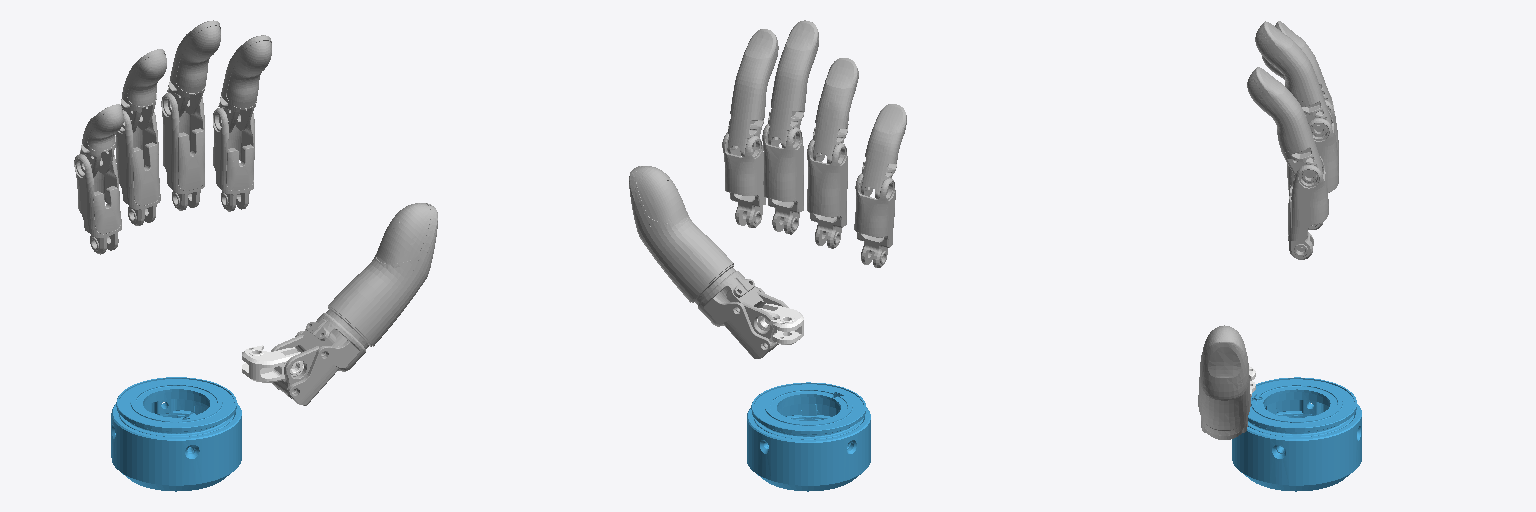
URDF robot description (BrainCoRevo1R_RightHand):
<?xml version="1.0" encoding="utf-8"?>

<!-- This URDF was automatically created by SolidWorks to URDF Exporter! Originally created by Stephen Brawner (brawner@gmail.com) 
     Commit Version: 1.6.0-4-g7f85cfe  Build Version: 1.6.7995.38578
     For more information, please see http://wiki.ros.org/sw_urdf_exporter -->
<robot name="BrainCoRevo1R_RightHand"> 
  <link name="base_link"/>  
  <link name="connector_link"> 
    <visual> 
      <origin xyz="0 0 0" rpy="0 0 0"/>  
      <geometry> 
        <mesh filename="visual/stl/connector_link.stl"/> 
      </geometry>  
    </visual>  
    <collision> 
      <origin xyz="0 0 0" rpy="0 0 0"/>  
      <geometry> 
        <mesh filename="collision/rough/connector_link.obj"/> 
      </geometry> 
    </collision> 
  </link>  
  <joint name="CONNECTOR" type="fixed"> 
    <origin xyz="0 0 0" rpy="1.5707963267948966 0 0"/> 
    <parent link="base_link"/>  
    <child link="connector_link"/>  
  </joint> 
  <link name="hand_base_link"> 
    <inertial> 
      <origin xyz="-0.00099373 0.040537 -0.0022835" rpy="0 0 0"/>  
      <mass value="0.427"/>  
      <inertia ixx="3.4364E-05" ixy="-1.2404E-06" ixz="5.654E-07" iyy="3.9467E-05" iyz="3.8955E-06" izz="6.3984E-05"/> 
    </inertial>  
    <visual> 
      <origin xyz="0 0 0" rpy="0 0 0"/>  
      <geometry> 
        <mesh filename="visual/stl/hand_base_link.stl"/> 
      </geometry>  
      <material name=""> 
        <color rgba="0.75 0.75294 0.75294 1"/> 
      </material> 
    </visual>  
    <collision> 
      <origin xyz="0 0 0" rpy="0 0 0"/>  
      <geometry> 
        <mesh filename="collision/rough/hand_base_link.obj"/> 
      </geometry> 
    </collision> 
  </link>  
  <joint name="HAND_BASE" type="fixed"> 
    <origin xyz="0 0 0.002" rpy="0 0 0"/>  
    <parent link="connector_link"/>  
    <child link="hand_base_link"/> 
  </joint>  
  <link name="base_offset"> </link>  
  <joint name="BASE_OFFSET" type="fixed"> 
    <origin xyz="0 0.0298242 0" rpy="0 0 0"/>  
    <parent link="hand_base_link"/>  
    <child link="base_offset"/>
  </joint>

  <link name="t_cmc_yaw_link"> 
    <inertial> 
      <origin xyz="0.0062041 -7.9383E-08 0.0015306" rpy="0 0 0"/>  
      <mass value="0.005"/>  
      <inertia ixx="4.0639E-08" ixy="5.8675E-13" ixz="2.4299E-09" iyy="9.2485E-08" iyz="7.1049E-13" izz="8.5586E-08"/> 
    </inertial>  
    <visual> 
      <origin xyz="0 0 0" rpy="0 0 0"/>  
      <geometry> 
        <mesh filename="visual/stl/t_cmc_yaw_link.stl"/> 
      </geometry>  
      <material name=""> 
        <color rgba="1 1 1 1"/> 
      </material> 
    </visual>  
    <collision> 
      <origin xyz="0 0 0" rpy="0 0 0"/>  
      <geometry> 
        <mesh filename="collision/rough/t_cmc_yaw_link.obj"/> 
      </geometry> 
    </collision> 
  </link>   
  <link name="t_mcp_link"> 
    <inertial> 
      <origin xyz="0.0083564 0.037204 -3.5884E-07" rpy="0 0 0"/>  
      <mass value="0.04"/>  
      <inertia ixx="7.1498E-06" ixy="2.0157E-07" ixz="-6.0726E-11" iyy="9.1501E-07" iyz="5.4502E-10" izz="6.8747E-06"/> 
    </inertial>  
    <visual> 
      <origin xyz="0 0 0" rpy="0 0 0"/>  
      <geometry> 
        <mesh filename="visual/stl/t_mcp_link.stl"/> 
      </geometry>  
      <material name=""> 
        <color rgba="0.75294 0.75294 0.75294 1"/> 
      </material> 
    </visual>  
    <collision> 
      <origin xyz="0 0 0" rpy="0 0 0"/>  
      <geometry> 
        <mesh filename="collision/rough/t_mcp_link.obj"/> 
      </geometry> 
    </collision> 
  </link>  
  <link name="if_mcp_pitch_link"> 
    <inertial> 
      <origin xyz="-5.571E-07 0.016609 0.00045746" rpy="0 0 0"/>  
      <mass value="0.008"/>  
      <inertia ixx="3.3526E-07" ixy="2.9401E-11" ixz="-2.4782E-12" iyy="1.0133E-07" iyz="2.0576E-08" izz="3.7092E-07"/> 
    </inertial>  
    <visual> 
      <origin xyz="0 0 0" rpy="0 0 0"/>  
      <geometry> 
        <mesh filename="visual/stl/if_mcp_pitch_link.stl"/> 
      </geometry>  
      <material name=""> 
        <color rgba="0.75294 0.75294 0.75294 1"/> 
      </material> 
    </visual>  
    <collision> 
      <origin xyz="0 0 0" rpy="0 0 0"/>  
      <geometry> 
        <mesh filename="collision/rough/if_mcp_pitch_link.obj"/> 
      </geometry> 
    </collision> 
  </link>  
  <link name="if_dip_link"> 
    <inertial> 
      <origin xyz="5.9401E-06 0.025449 0.003278" rpy="0 0 0"/>  
      <mass value="0.011"/>  
      <inertia ixx="8.4801E-07" ixy="-1.0878E-09" ixz="-1.3683E-10" iyy="1.4147E-07" iyz="-1.0078E-07" izz="8.5502E-07"/> 
    </inertial>  
    <visual> 
      <origin xyz="0 0 0" rpy="0 0 0"/>  
      <geometry> 
        <mesh filename="visual/stl/if_dip_link.stl"/> 
      </geometry>  
      <material name=""> 
        <color rgba="0.75294 0.75294 0.75294 1"/> 
      </material> 
    </visual>  
    <collision> 
      <origin xyz="0 0 0" rpy="0 0 0"/>  
      <geometry> 
        <mesh filename="collision/rough/if_dip_link.obj"/> 
      </geometry> 
    </collision> 
  </link>  
  <link name="mf_mcp_pitch_link"> 
    <inertial> 
      <origin xyz="2.3779E-07 0.020205 0.00053993" rpy="0 0 0"/>  
      <mass value="0.011"/>  
      <inertia ixx="5.5624E-07" ixy="8E-12" ixz="-8.5151E-12" iyy="1.3298E-07" iyz="2.669E-08" izz="6.0146E-07"/> 
    </inertial>  
    <visual> 
      <origin xyz="0 0 0" rpy="0 0 0"/>  
      <geometry> 
        <mesh filename="visual/stl/mf_mcp_pitch_link.stl"/> 
      </geometry>  
      <material name=""> 
        <color rgba="0.75294 0.75294 0.75294 1"/> 
      </material> 
    </visual>  
    <collision> 
      <origin xyz="0 0 0" rpy="0 0 0"/>  
      <geometry> 
        <mesh filename="collision/rough/mf_mcp_pitch_link.obj"/> 
      </geometry> 
    </collision> 
  </link>  
  <link name="mf_dip_link"> 
    <inertial> 
      <origin xyz="5.9404E-06 0.025449 0.003278" rpy="0 0 0"/>  
      <mass value="0.011"/>  
      <inertia ixx="8.4801E-07" ixy="-1.0879E-09" ixz="-1.3705E-10" iyy="1.4147E-07" iyz="-1.0078E-07" izz="8.5501E-07"/> 
    </inertial>  
    <visual> 
      <origin xyz="0 0 0" rpy="0 0 0"/>  
      <geometry> 
        <mesh filename="visual/stl/mf_dip_link.stl"/> 
      </geometry>  
      <material name=""> 
        <color rgba="0.75294 0.75294 0.75294 1"/> 
      </material> 
    </visual>  
    <collision> 
      <origin xyz="0 0 0" rpy="0 0 0"/>  
      <geometry> 
        <mesh filename="collision/rough/mf_dip_link.obj"/> 
      </geometry> 
    </collision> 
  </link>  
  <link name="rf_mcp_pitch_link"> 
    <inertial> 
      <origin xyz="2.4507E-07 0.020236 0.00042373" rpy="0 0 0"/>  
      <mass value="0.011"/>  
      <inertia ixx="5.5623E-07" ixy="7.4604E-12" ixz="-8.5876E-12" iyy="1.3295E-07" iyz="2.7719E-08" izz="6.0149E-07"/> 
    </inertial>  
    <visual> 
      <origin xyz="0 0 0" rpy="0 0 0"/>  
      <geometry> 
        <mesh filename="visual/stl/rf_mcp_pitch_link.stl"/> 
      </geometry>  
      <material name=""> 
        <color rgba="0.75294 0.75294 0.75294 1"/> 
      </material> 
    </visual>  
    <collision> 
      <origin xyz="0 0 0" rpy="0 0 0"/>  
      <geometry> 
        <mesh filename="collision/rough/rf_mcp_pitch_link.obj"/> 
      </geometry> 
    </collision> 
  </link>  
  <link name="rf_dip_link"> 
    <inertial> 
      <origin xyz="5.5799E-07 0.020388 0.0029077" rpy="0 0 0"/>  
      <mass value="0.008"/>  
      <inertia ixx="3.6793E-07" ixy="-6.504E-13" ixz="-1.1541E-11" iyy="8.4208E-08" iyz="-4.5737E-08" izz="3.8369E-07"/> 
    </inertial>  
    <visual> 
      <origin xyz="0 0 0" rpy="0 0 0"/>  
      <geometry> 
        <mesh filename="visual/stl/rf_dip_link.stl"/> 
      </geometry>  
      <material name=""> 
        <color rgba="0.75294 0.75294 0.75294 1"/> 
      </material> 
    </visual>  
    <collision> 
      <origin xyz="0 0 0" rpy="0 0 0"/>  
      <geometry> 
        <mesh filename="collision/rough/rf_dip_link.obj"/> 
      </geometry> 
    </collision> 
  </link> 
  <link name="lf_mcp_pitch_link"> 
    <inertial> 
      <origin xyz="-5.4618E-07 0.016662 0.00040738" rpy="0 0 0"/>  
      <mass value="0.008"/>  
      <inertia ixx="3.3526E-07" ixy="2.8461E-11" ixz="-2.3358E-12" iyy="1.0129E-07" iyz="2.1346E-08" izz="3.7096E-07"/> 
    </inertial>  
    <visual> 
      <origin xyz="0 0 0" rpy="0 0 0"/>  
      <geometry> 
        <mesh filename="visual/stl/lf_mcp_pitch_link.stl"/> 
      </geometry>  
      <material name=""> 
        <color rgba="0.75294 0.75294 0.75294 1"/> 
      </material> 
    </visual>  
    <collision> 
      <origin xyz="0 0 0" rpy="0 0 0"/>  
      <geometry> 
        <mesh filename="collision/rough/lf_mcp_pitch_link.obj"/> 
      </geometry> 
    </collision> 
  </link> 
  <link name="lf_dip_link"> 
    <inertial> 
      <origin xyz="1.062E-05 0.017869 0.0020864" rpy="0 0 0"/>  
      <mass value="0.008"/>  
      <inertia ixx="2.3262E-07" ixy="-4.9135E-10" ixz="-4.9506E-11" iyy="6.4304E-08" iyz="-2.3564E-08" izz="2.4916E-07"/> 
    </inertial>  
    <visual> 
      <origin xyz="0 0 0" rpy="0 0 0"/>  
      <geometry> 
        <mesh filename="visual/stl/lf_dip_link.stl"/> 
      </geometry>  
      <material name=""> 
        <color rgba="0.75294 0.75294 0.75294 1"/> 
      </material> 
    </visual>  
    <collision> 
      <origin xyz="0 0 0" rpy="0 0 0"/>  
      <geometry> 
        <mesh filename="collision/rough/lf_dip_link.obj"/> 
      </geometry> 
    </collision> 
  </link>  

  <joint name="T_CMC_YAW" type="revolute"> 
    <origin xyz="0.0245 0.0242 0.021628" rpy="0 -0.49642 0"/>  
    <parent link="base_offset"/>  
    <child link="t_cmc_yaw_link"/>  
    <axis xyz="0 -1 0"/>  
    <limit lower="0" upper="1.5708" effort="0" velocity="0"/> 
  </joint> 
  <joint name="T_MCP" type="revolute"> 
    <origin xyz="0.013647 0 0" rpy="-0.39332 0.31115 -0.93514"/>  
    <parent link="t_cmc_yaw_link"/>  
    <child link="t_mcp_link"/>  
    <axis xyz="0 0 1"/>  
    <limit lower="0" upper="0.87266" effort="0" velocity="0"/> 
  </joint>  
  <joint name="IF_MCP_PITCH" type="revolute"> 
    <origin xyz="0.029003 0.088231 -0.0039488" rpy="-0.09929 -0.054667 -0.031168"/>  
    <parent link="base_offset"/>  
    <child link="if_mcp_pitch_link"/>  
    <axis xyz="1 0 0"/>  
    <limit lower="0" upper="1.309" effort="0" velocity="0"/> 
  </joint>  
  <joint name="IF_DIP" type="revolute"> 
    <origin xyz="0 0.035 0" rpy="0.19353 0 0"/>  
    <parent link="if_mcp_pitch_link"/>  
    <child link="if_dip_link"/> 
    <axis xyz="1 0 0"/>  
    <limit lower="0" upper="2.0944" effort="0" velocity="0"/> 
    <mimic joint="IF_MCP_PITCH" multiplier="1.2" offset="0.19373154697137057"/>
  </joint>  
  <joint name="MF_MCP_PITCH" type="revolute"> 
    <origin xyz="0.008 0.091935 -0.0082038" rpy="-0.069813 0 0"/>  
    <parent link="base_offset"/>  
    <child link="mf_mcp_pitch_link"/>  
    <axis xyz="1 0 0"/>  
    <limit lower="0" upper="1.309" effort="0" velocity="0"/> 
  </joint>  
  <joint name="MF_DIP" type="revolute"> 
    <origin xyz="0 0.042 0" rpy="0.18357 0 0"/>  
    <parent link="mf_mcp_pitch_link"/>  
    <child link="mf_dip_link"/>  
    <axis xyz="1 0 0"/>  
    <limit lower="0" upper="2.0944" effort="0" velocity="0"/> 
    <mimic joint="MF_MCP_PITCH" multiplier="1.2" offset="0.1832595714594046"/>
  </joint>  
  <joint name="RF_MCP_PITCH" type="revolute"> 
    <origin xyz="-0.013103 0.089947 -0.0080786" rpy="-0.079113 0.054667 0.031168"/>  
    <parent link="base_offset"/>  
    <child link="rf_mcp_pitch_link"/>  
    <axis xyz="1 0 0"/>  
    <limit lower="0" upper="1.309" effort="0" velocity="0"/> 
  </joint>  
  <joint name="RF_DIP" type="revolute"> 
    <origin xyz="0 0.042 0" rpy="0.16583 0 0"/>  
    <parent link="rf_mcp_pitch_link"/>  
    <child link="rf_dip_link"/>  
    <axis xyz="1 0 0"/>  
    <limit lower="0" upper="2.0944" effort="0" velocity="0"/> 
    <mimic joint="RF_MCP_PITCH" multiplier="1.2" offset="0.16580627893946132"/>
  </joint>  
  <joint name="LF_MCP_PITCH" type="revolute"> 
    <origin xyz="-0.033731 0.083727 -0.0036339" rpy="-0.094666 0.057099 0.065996"/>  
    <parent link="base_offset"/>  
    <child link="lf_mcp_pitch_link"/>  
    <axis xyz="1 0 0"/>  
    <limit lower="0" upper="1.309" effort="0" velocity="0"/> 
  </joint>  
  <joint name="LF_DIP" type="revolute"> 
    <origin xyz="0 0.035 0" rpy="0.20294 0 0"/>  
    <parent link="lf_mcp_pitch_link"/>  
    <child link="lf_dip_link"/>  
    <axis xyz="1 0 0"/>  
    <limit lower="0" upper="2.0944" effort="0" velocity="0"/> 
    <mimic joint="LF_MCP_PITCH" multiplier="1.2" offset="0.20245819323134223"/>
  </joint> 

</robot>

--- What the picture shows (computed from the rendered views, not written in the file) ---
3 views of the same robot in one strip: view 1: azimuth 30°, elevation 25°; view 2: azimuth 150°, elevation 25°; view 3: azimuth 270°, elevation 25° (orthographic).
Model BrainCoRevo1R_RightHand with 14 links and 13 joints (10 revolute, 3 fixed), rooted at base_link, posed every joint at zero.
Visible links, largest first — view 1: connector_link, t_mcp_link, mf_mcp_pitch_link, rf_mcp_pitch_link, if_mcp_pitch_link, lf_mcp_pitch_link, if_dip_link, mf_dip_link, rf_dip_link, lf_dip_link, t_cmc_yaw_link; view 2: connector_link, t_mcp_link, if_dip_link, mf_dip_link, mf_mcp_pitch_link, rf_mcp_pitch_link, rf_dip_link, if_mcp_pitch_link, lf_mcp_pitch_link, lf_dip_link, t_cmc_yaw_link; view 3: connector_link, t_mcp_link, if_dip_link, mf_dip_link, if_mcp_pitch_link, mf_mcp_pitch_link, rf_dip_link.
Boxes of the visible links, x1,y1,x2,y2 form: connector_link: (111,377,241,491); t_mcp_link: (271,203,437,405); mf_mcp_pitch_link: (161,93,204,210); rf_mcp_pitch_link: (116,110,160,225); if_mcp_pitch_link: (213,108,254,211); lf_mcp_pitch_link: (74,154,121,254); if_dip_link: (218,35,271,132); mf_dip_link: (167,20,220,117); rf_dip_link: (121,49,166,132); lf_dip_link: (80,104,123,177); t_cmc_yaw_link: (242,345,303,382); connector_link: (747,382,870,491); t_mcp_link: (629,166,788,358); if_dip_link: (727,29,778,156); mf_dip_link: (768,20,818,147); mf_mcp_pitch_link: (762,124,803,234); rf_mcp_pitch_link: (807,139,847,248); rf_dip_link: (813,58,858,163); if_mcp_pitch_link: (722,132,765,227); lf_mcp_pitch_link: (854,173,895,267); lf_dip_link: (861,104,906,198); t_cmc_yaw_link: (757,303,803,344); connector_link: (1232,377,1361,491); t_mcp_link: (1198,325,1250,439); if_dip_link: (1247,67,1323,183); mf_dip_link: (1255,21,1331,136); if_mcp_pitch_link: (1288,156,1328,259); mf_mcp_pitch_link: (1308,110,1338,229); rf_dip_link: (1275,21,1332,104).
Size in the robot's own frame: 0.1496 by 0.0681 by 0.2101 metres.
11 mesh visuals loaded from 12 distinct referenced files (11 binary STL); not drawn: 1 (reference not matched to a file when rendering).
